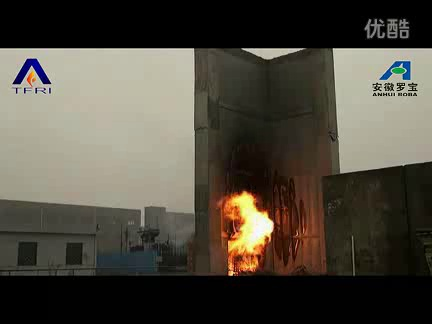fire: (220, 179, 277, 279)
